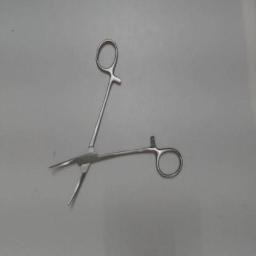Crile Artery Forceps: (42, 34, 186, 214)
